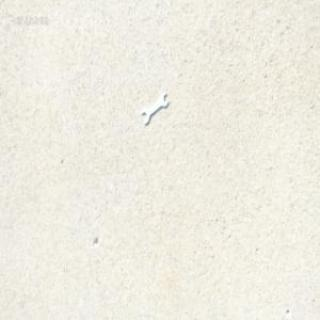Wrenchtrack_idkeyframe: (139, 91, 168, 125)
